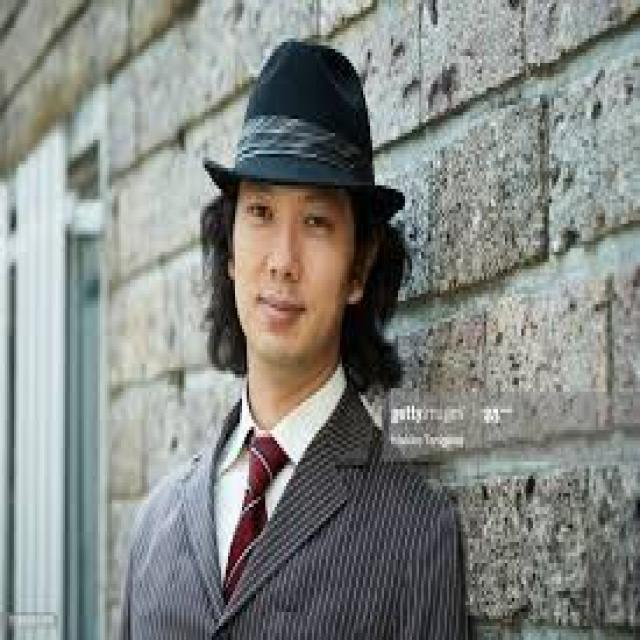hat: (210, 42, 400, 378)
